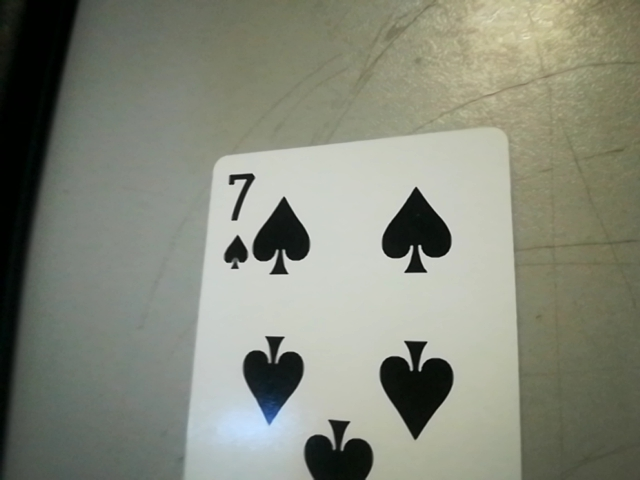ht 7: (208, 166, 257, 271)
